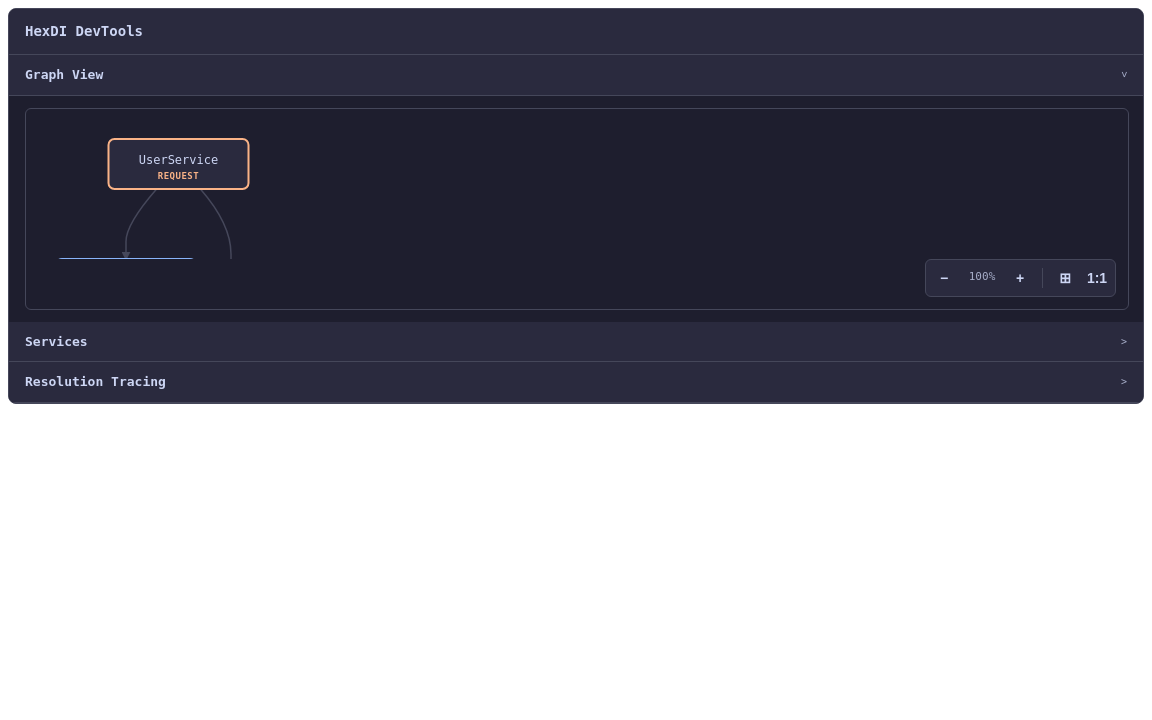
Test: DevToolsPanel › collapsible sections work for container browser
The width and height of the screenshot is (1152, 720).
# Click to expand
Click the button with test id "services-header" at {"x": 56, "y": 341}, box [9,322,1143,362]
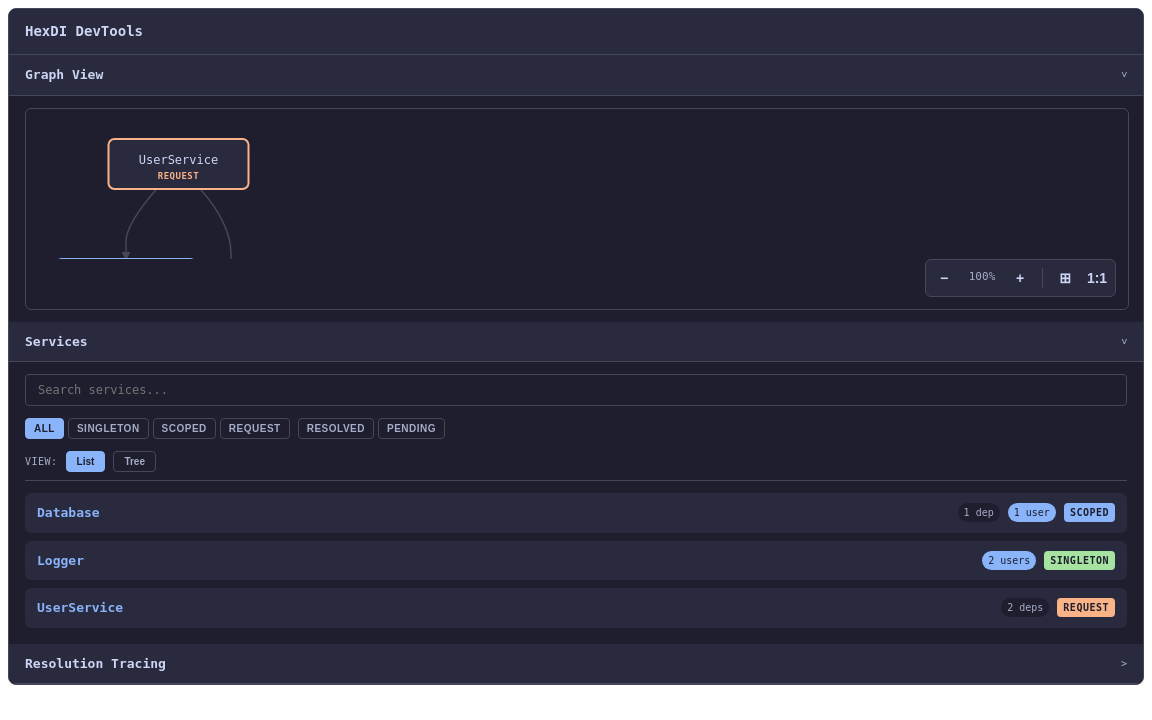
Expected: the element with test id "services-content" is shown, [9,362,1143,644]
# Click to collapse
Click the button with test id "services-header" at {"x": 56, "y": 341}, box [9,322,1143,362]
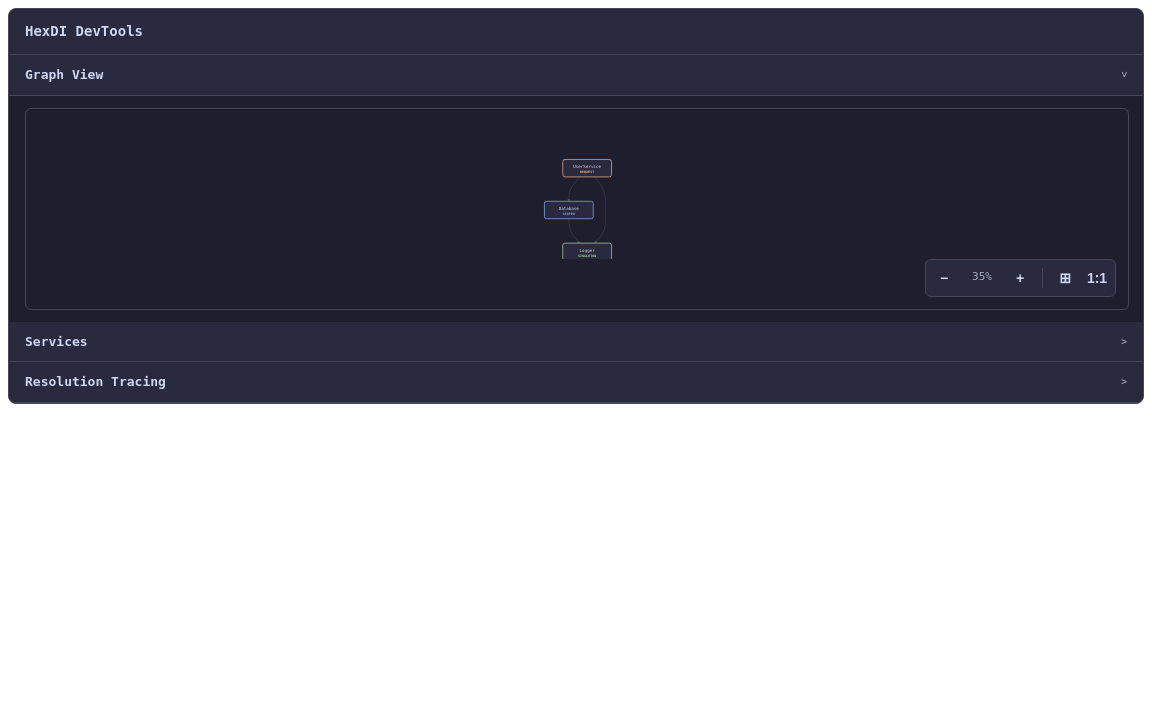
Expected: the element with test id "services-content" is gone
